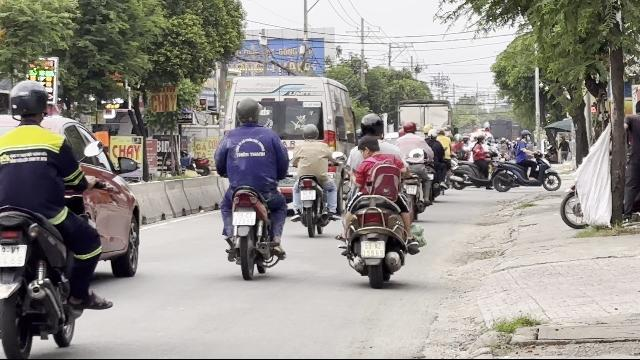helmet: (6, 80, 50, 126), (233, 97, 261, 125), (359, 112, 383, 136), (302, 124, 318, 140)
licenseplate: (0, 245, 26, 267), (361, 240, 385, 258), (232, 211, 255, 225), (300, 190, 316, 199)
motorcyclist: (0, 76, 110, 358), (336, 112, 422, 286), (212, 96, 290, 278), (290, 122, 338, 236)
nohelmet: (355, 134, 381, 158)
